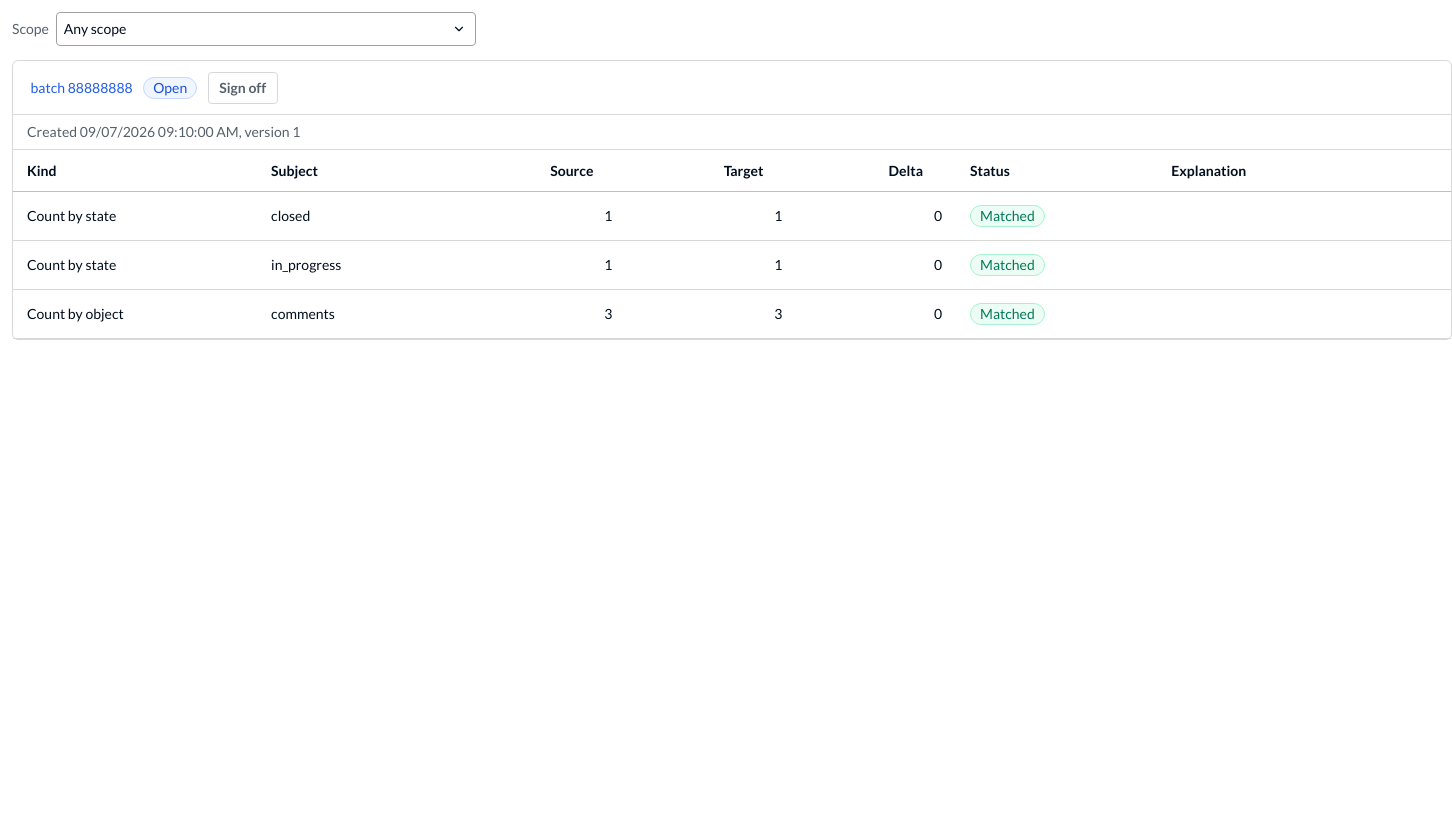
Test: ReconciliationTab › signs off with the report version, then shows the frozen report with the signer's name and no actions
The width and height of the screenshot is (1452, 822).
Click the button "Sign off". click: coordinates (243, 88)
box: [208,72,278,104]
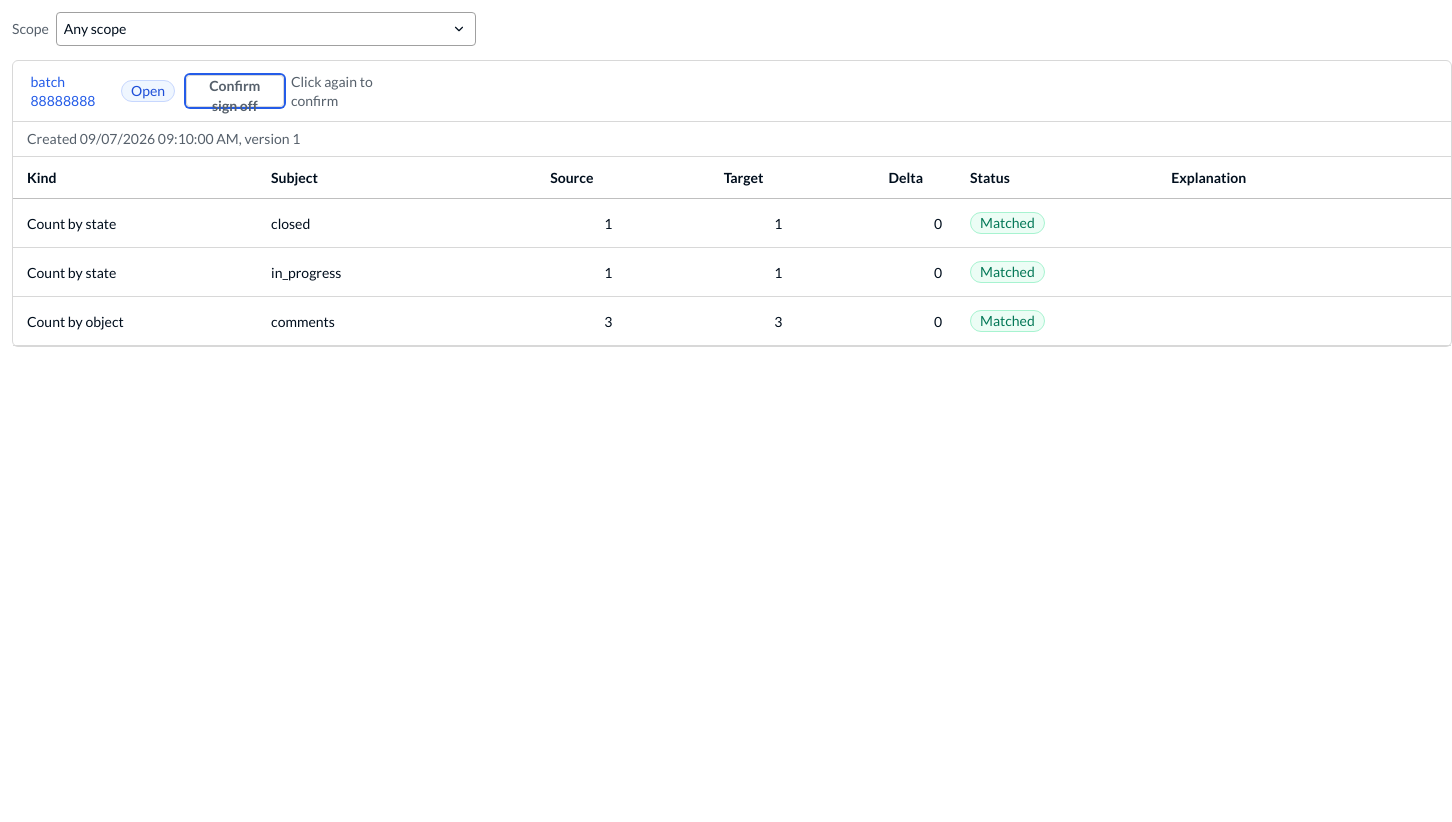
Click the button "Confirm sign off". click: coordinates (235, 91)
box: [186,75,284,107]
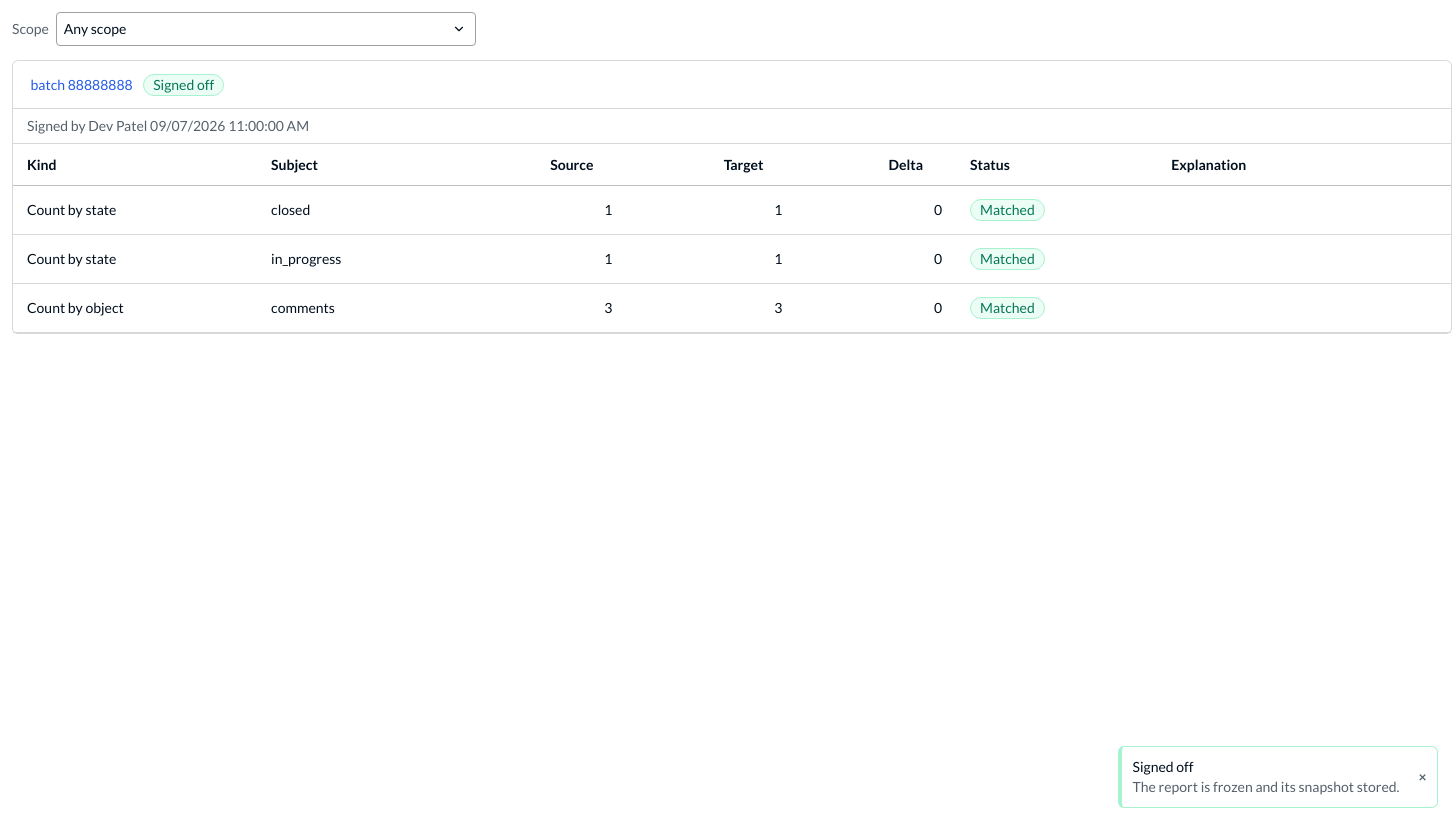
Result: the text "Signed off" next to "88888888" is shown at [153,76,214,92]
Result: the text "Signed by Dev Patel 09/07/2026 11:00:00 AM" is shown at [27,117,309,134]
Result: the button "sign off" is gone
